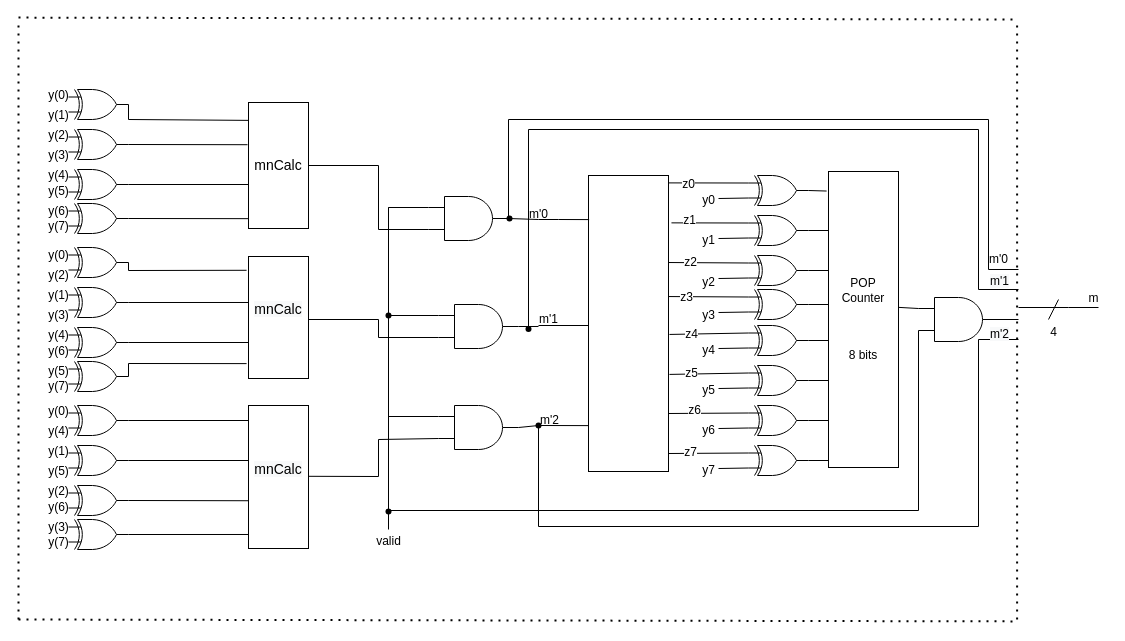
This 1125x641 diagram has some shape labels left out. Here are the shapes that lost their labels. From the top down, the centre of each, then its label:
At pixel 628 323: "Partial Encoder m'3=0".
At pixel 958 319: "m'3".
